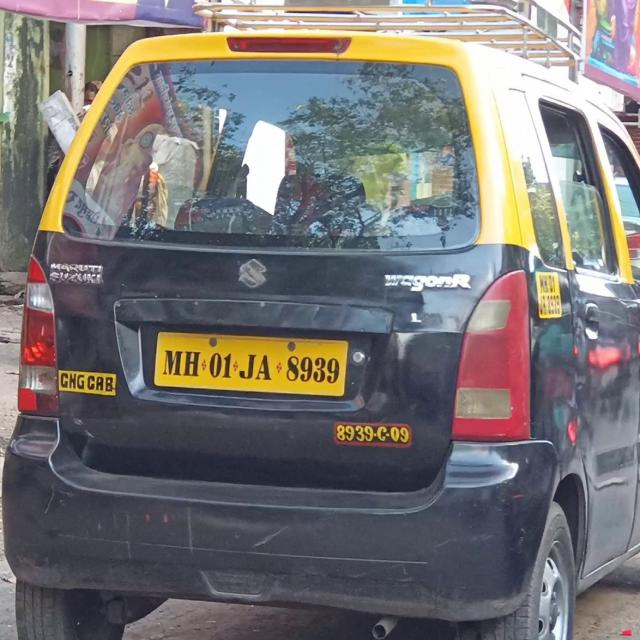Plate: (154, 331, 347, 397)
